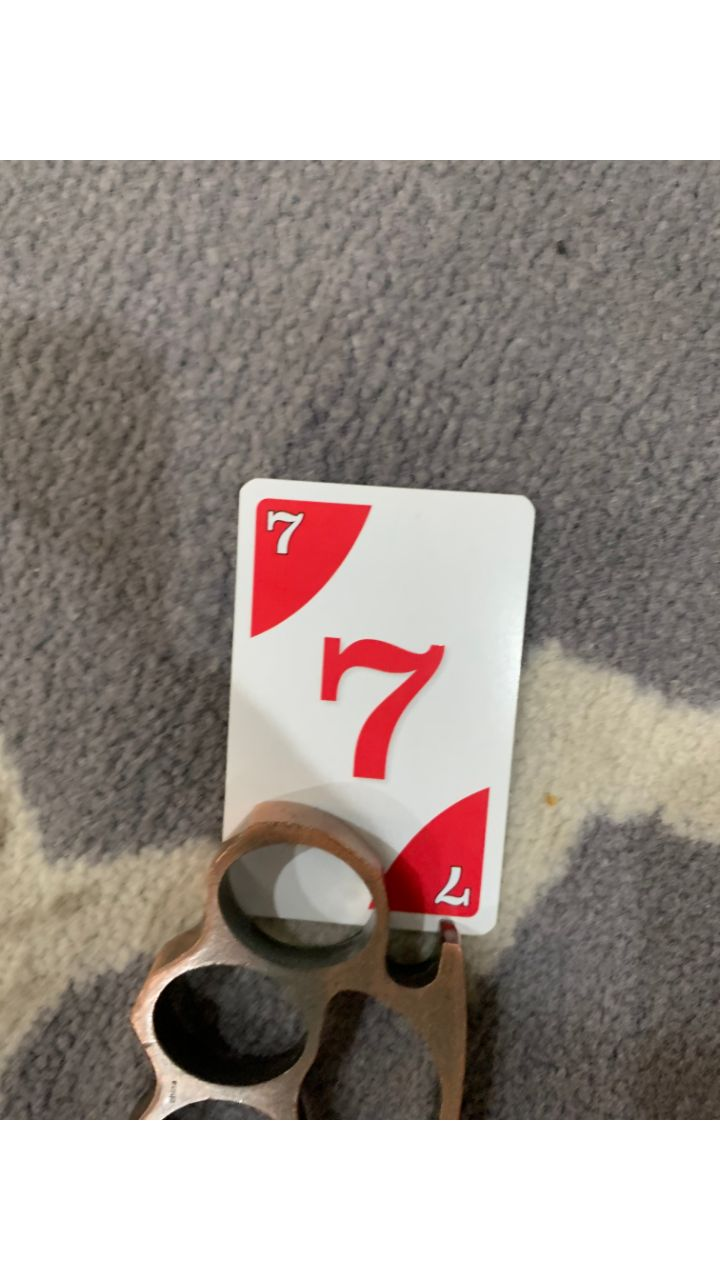seven: (213, 471, 538, 937)
